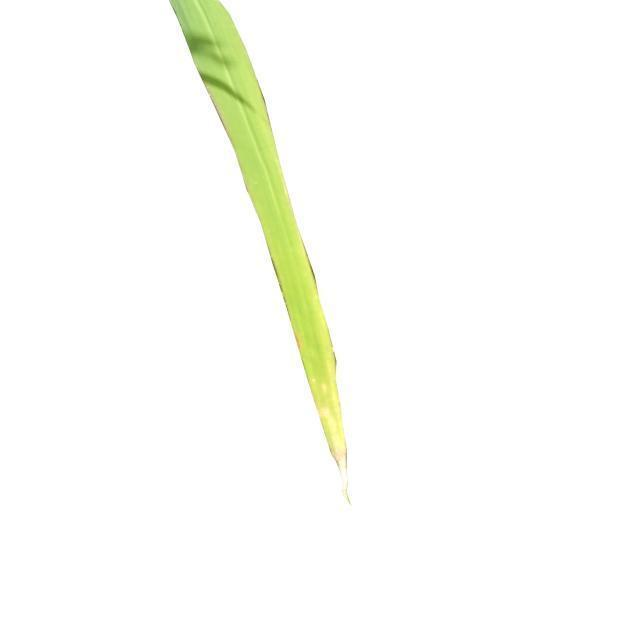Rice Tungro: (308, 266, 345, 478)
